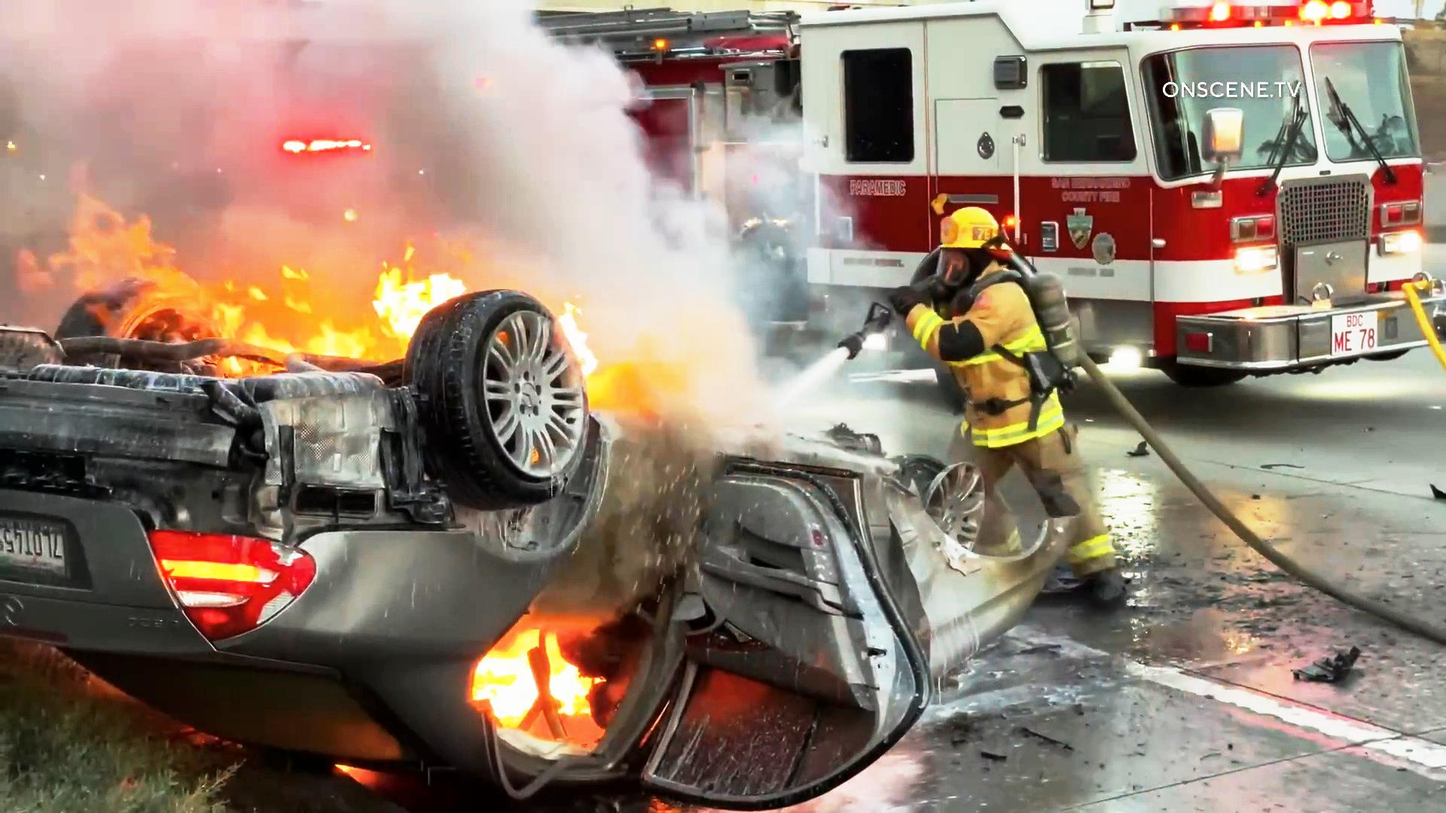fire: (35, 165, 337, 366), (373, 249, 601, 385), (477, 612, 614, 756)
smoke: (0, 14, 402, 319), (411, 3, 626, 229), (628, 190, 799, 416)
